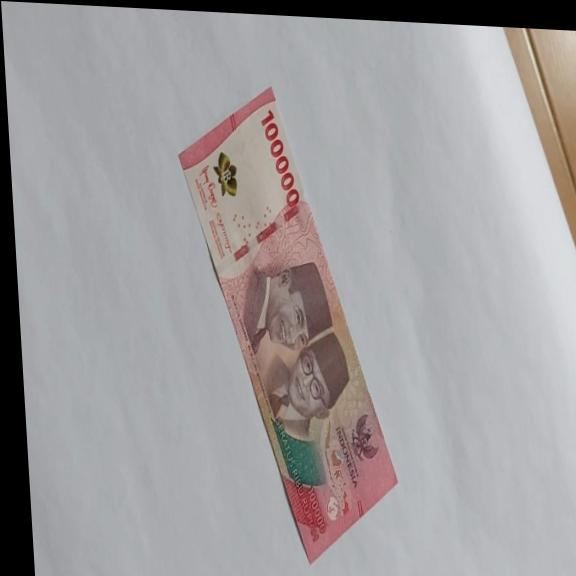Kertas: (172, 82, 404, 570), (259, 107, 300, 210)
